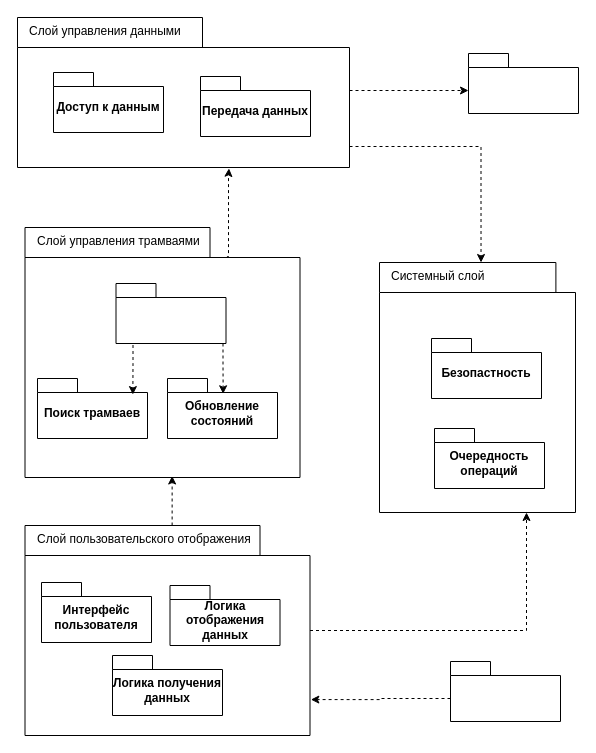
Image size: 596x753. Some labels were removed from this diagram. Each missing label, with the centre of its shape:
Источники данных: the point at 523,83
Обработка запросов: the point at 170,313
Пользователи: the point at 505,691
